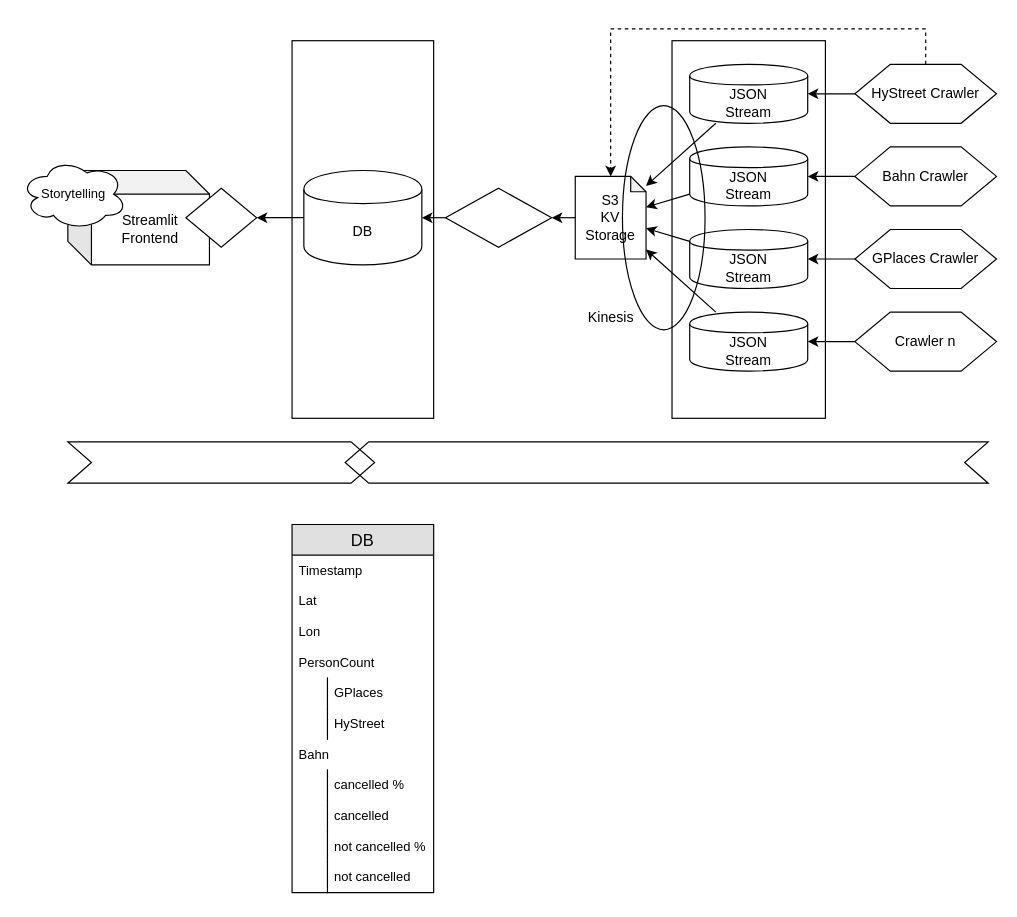
This 1017x917 diagram has some shape labels left out. The box of each missing label's shape, as (x1, y1, x2, y2) in pixels:
Aggregated data: (291, 40, 434, 418)
Backend sammelt und verarbeitet Daten vor: (344, 441, 988, 483)
Client: (185, 187, 257, 247)
Frontend gibt DB-Struktur vor: (67, 441, 375, 483)
Python Script: (444, 187, 552, 247)
Raw data: (671, 40, 825, 418)
